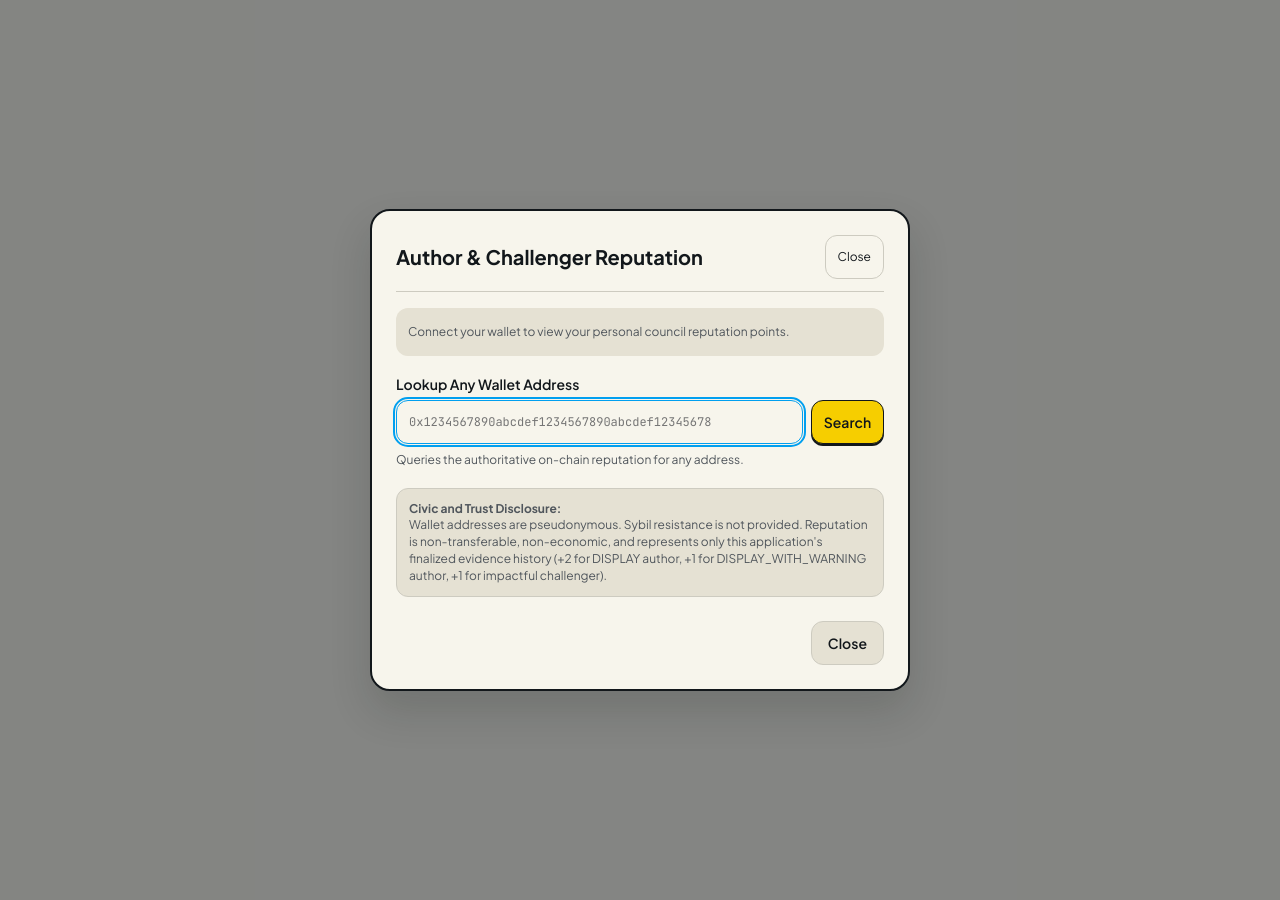
Scenario: Workbench Application Views & Deep-linking › 21. Reputation lookup clears stale readback when the address changes
The image size is (1280, 900).
Step 1. Type "0x1111111111111111111111111111111111111111" into the field labelled "Lookup Any Wallet Address" → (599, 422), box [396,400,803,444]
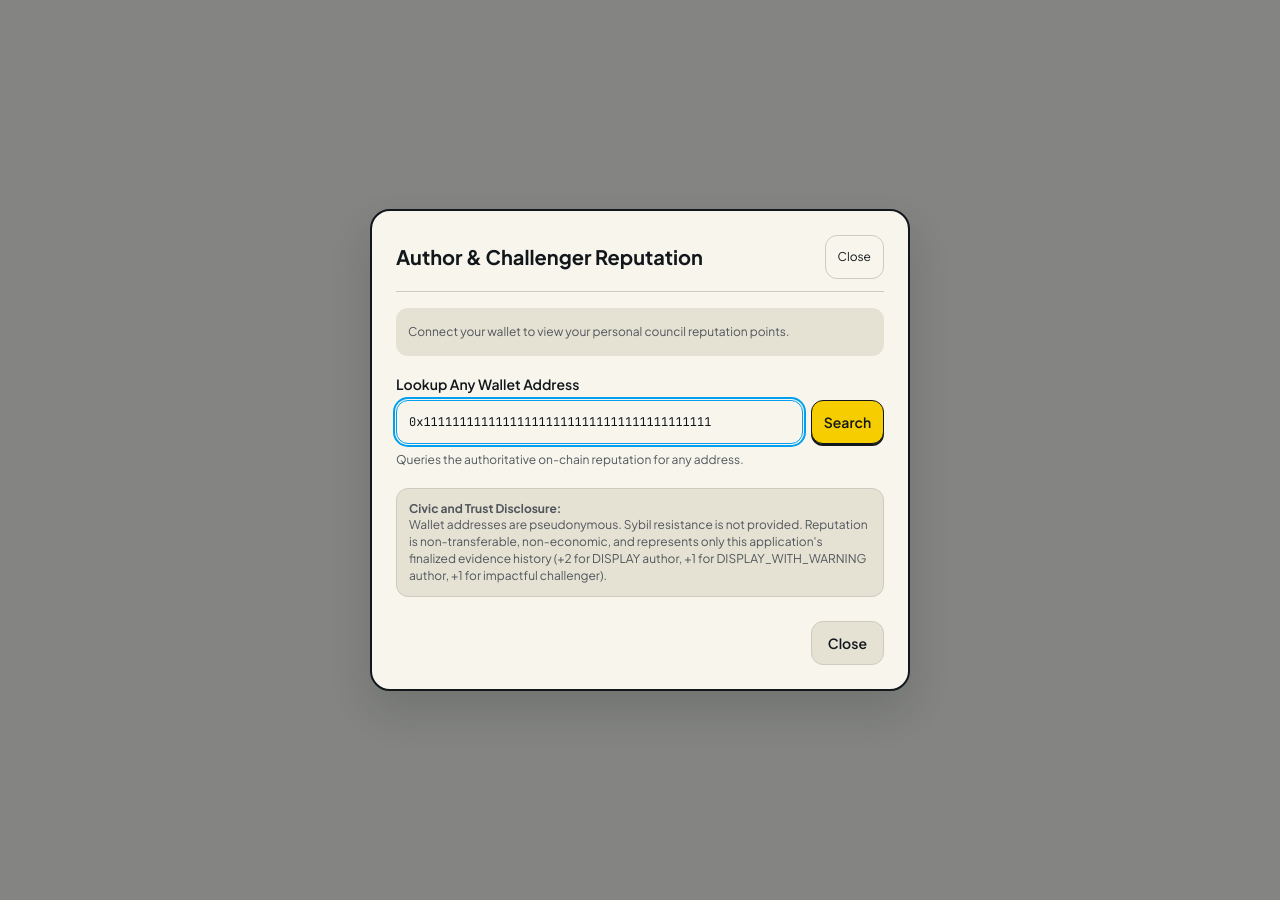
Step 2. Click the button "Search" → (847, 422), box [811,400,884,444]
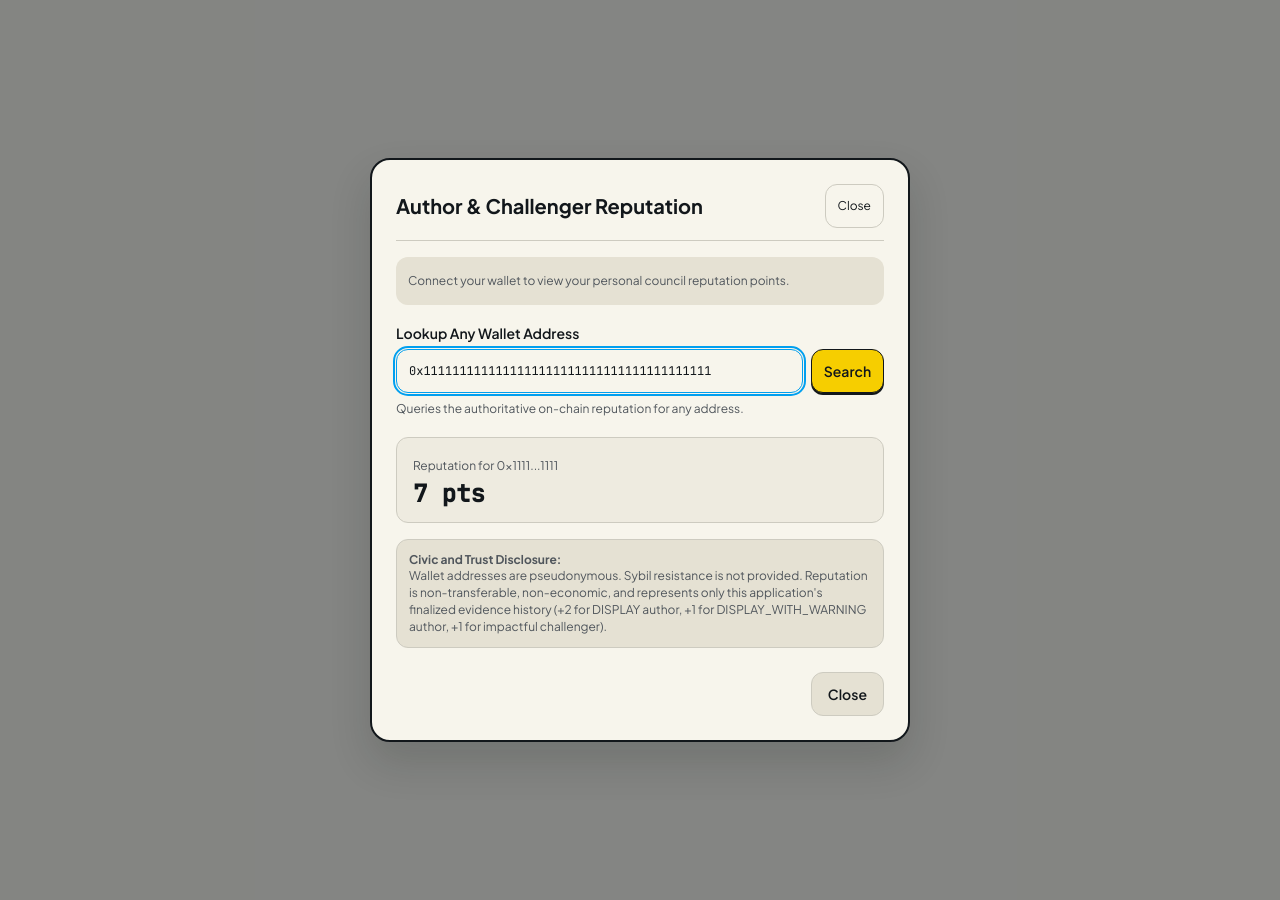
Expected: the text "7 pts" is shown, [413,478,485,508]
Step 3. Replace the text in the field labelled "Lookup Any Wallet Address" with "0x1234" → (599, 370), box [396,348,803,392]
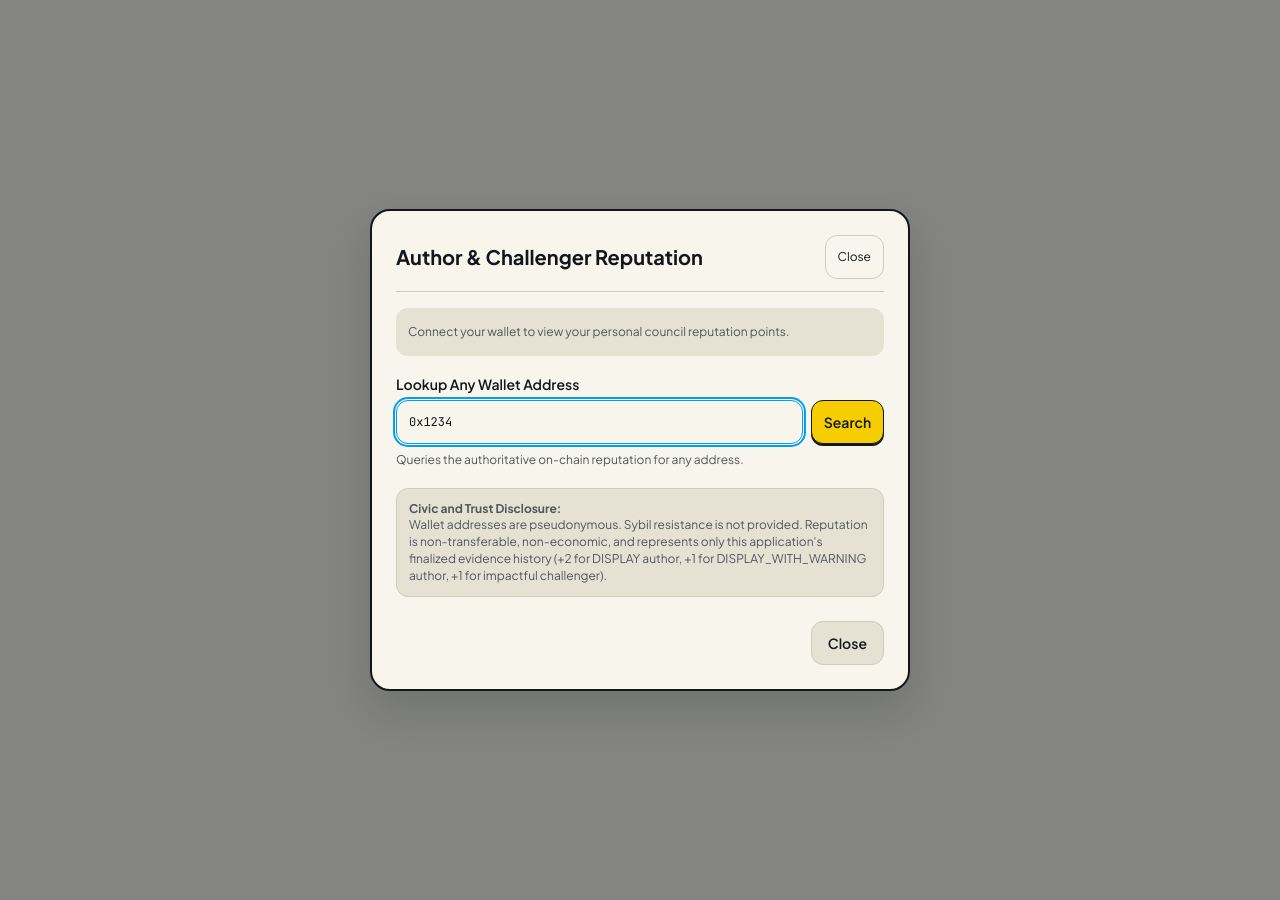
Expected: the text "7 pts" is gone
Step 4. Click the button "Search" → (847, 422), box [811,400,884,444]
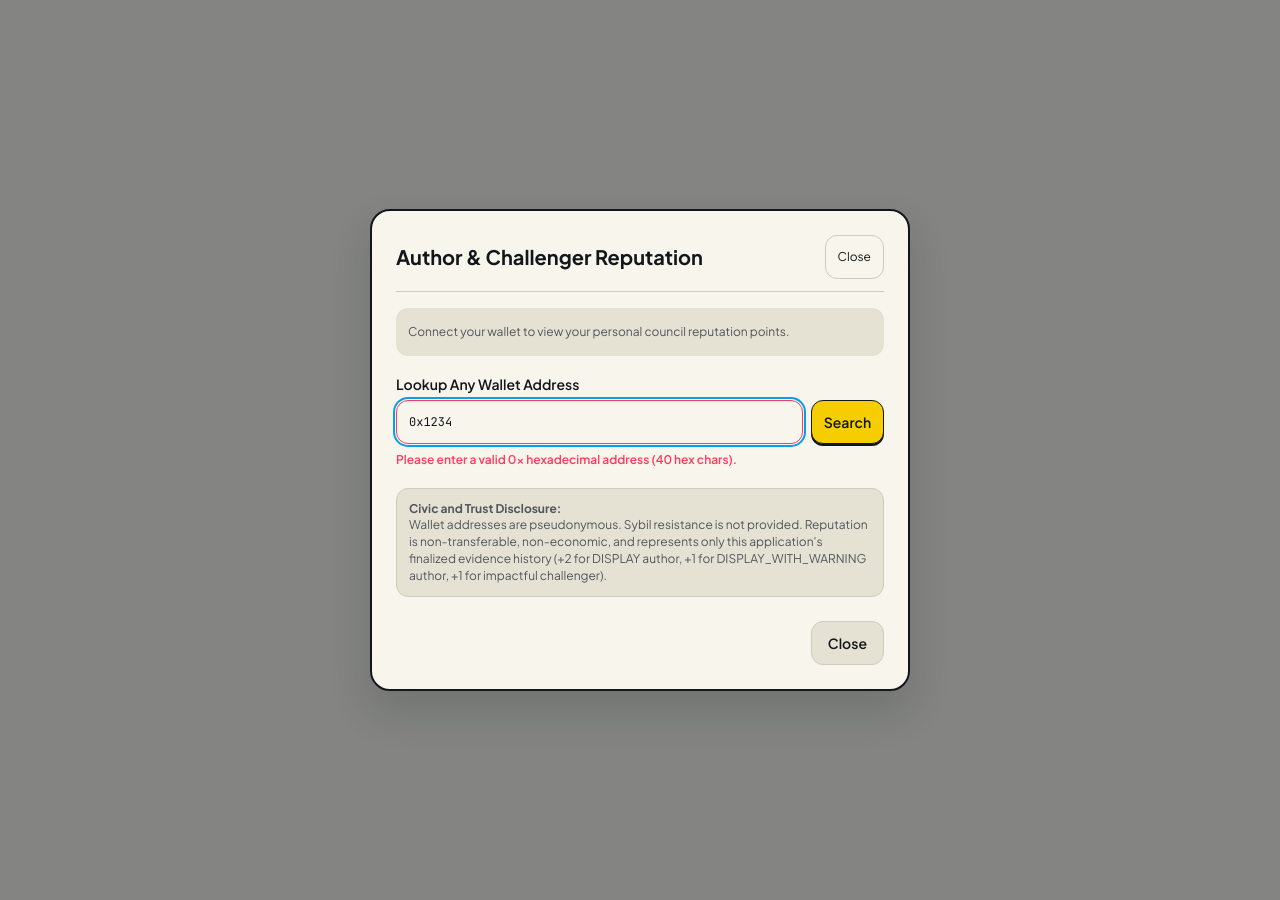
Expected: the text "Please enter a valid 0x hexadecimal address (40 hex chars)." is shown, [396,452,737,466]
